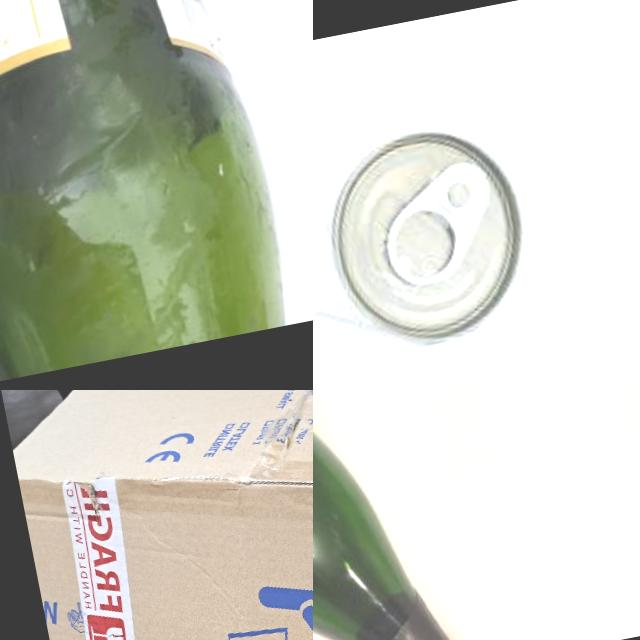aba de lata: (369, 159, 508, 294)
garrafa de vidro: (0, 0, 295, 385), (313, 390, 487, 640)
lata: (313, 111, 549, 378)
papelão: (1, 390, 313, 640)
